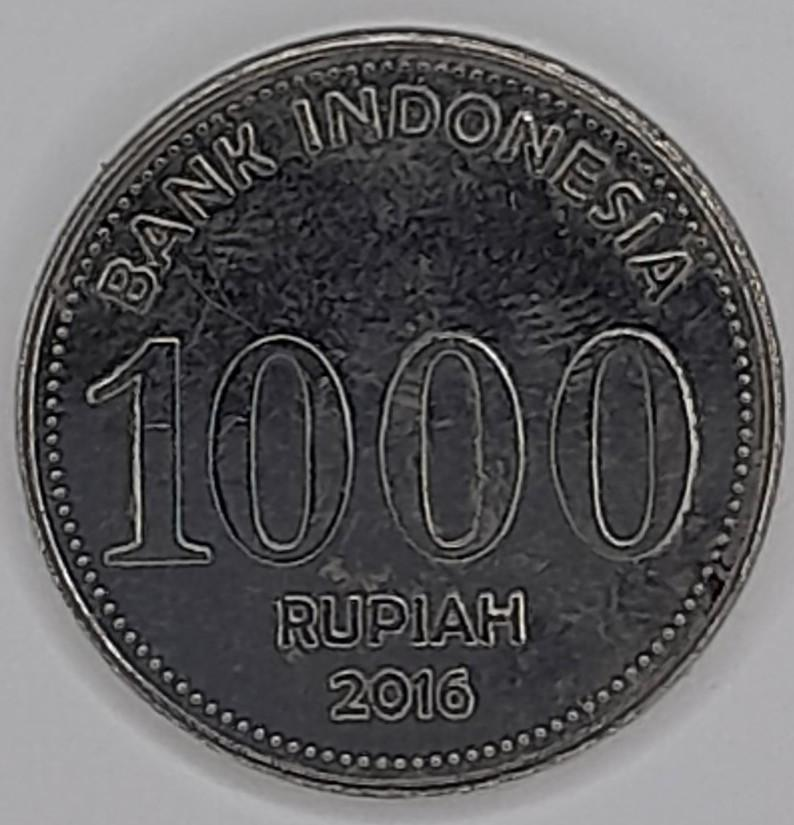coin_1000_e2016: (14, 16, 783, 825)
